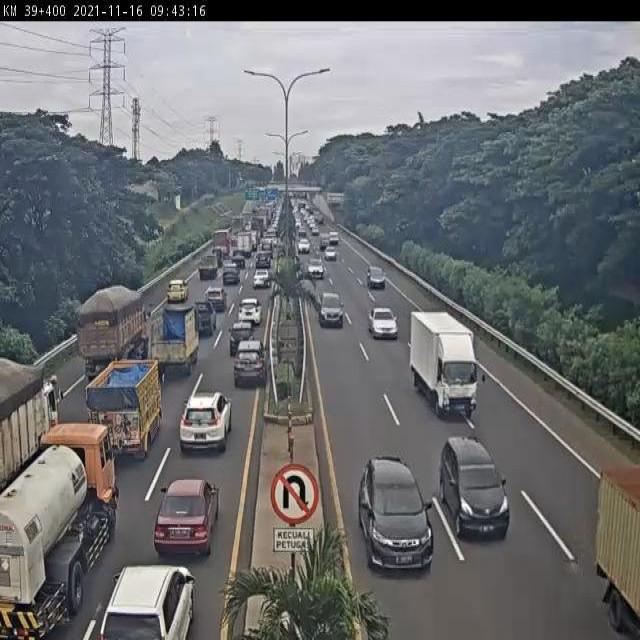car: (353, 448, 442, 580), (438, 438, 519, 542), (102, 565, 193, 640), (155, 480, 218, 557), (179, 388, 236, 456), (232, 336, 267, 388), (321, 288, 345, 332), (370, 303, 397, 340), (186, 306, 213, 342), (229, 319, 255, 353), (196, 256, 218, 284), (165, 279, 189, 304), (240, 299, 263, 325), (204, 288, 225, 315), (366, 264, 386, 291), (251, 268, 270, 291), (219, 267, 239, 288), (254, 259, 271, 280), (308, 255, 323, 277), (227, 256, 243, 275), (260, 242, 273, 262), (322, 247, 337, 264), (205, 254, 217, 274)
truck-l-: (0, 357, 64, 496), (78, 286, 156, 390)
truck-m-: (1, 422, 119, 638), (406, 309, 484, 416), (88, 363, 162, 461), (146, 303, 200, 380), (213, 228, 232, 259), (235, 234, 252, 262)
